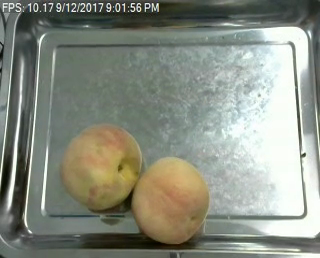Peach: (130, 154, 211, 244), (61, 123, 141, 210)
